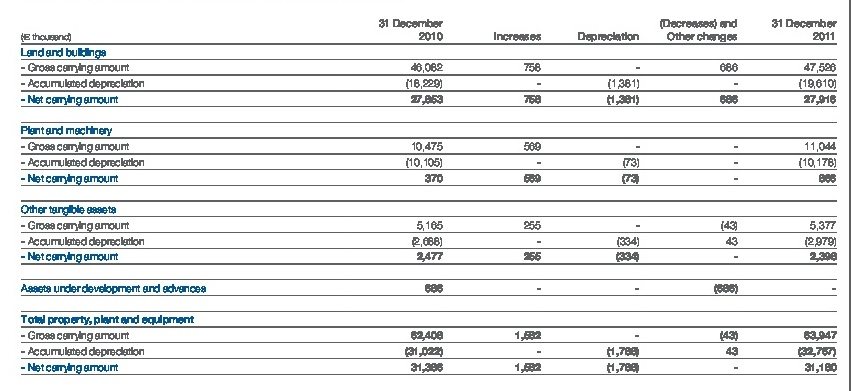table: (0, 0, 859, 391)
